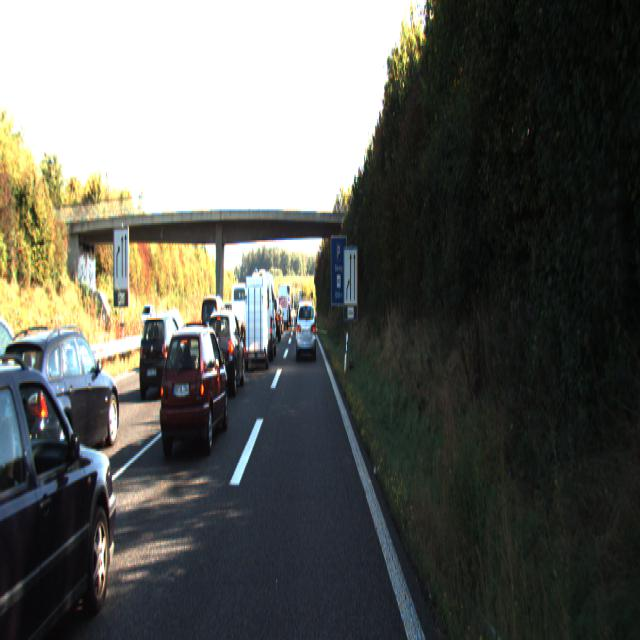Car: (0, 338, 125, 639), (0, 322, 122, 490), (159, 324, 230, 462), (0, 309, 47, 460), (138, 311, 189, 399), (203, 306, 246, 396), (242, 272, 270, 370), (249, 268, 277, 358), (295, 297, 316, 358), (265, 296, 282, 342), (277, 283, 289, 328)
